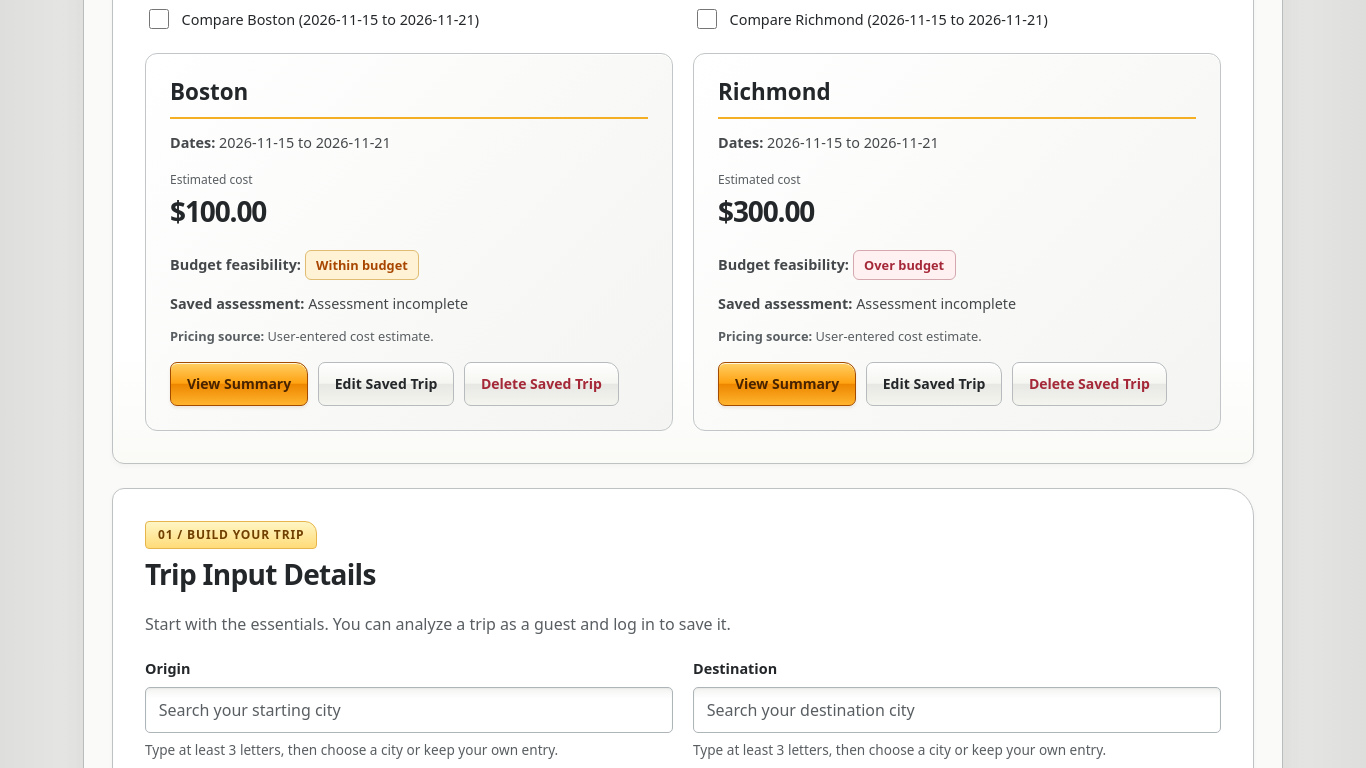
it: multiple saved trips dashboard › confirms deletion of the chosen trip and leaves the other trip intact
The width and height of the screenshot is (1366, 768).
Later steps or results of the test are not shown.
(page scrolled)
Click the button "Delete Saved Trip" below "Over budget" at (1089, 384), box [1012,362,1167,406]
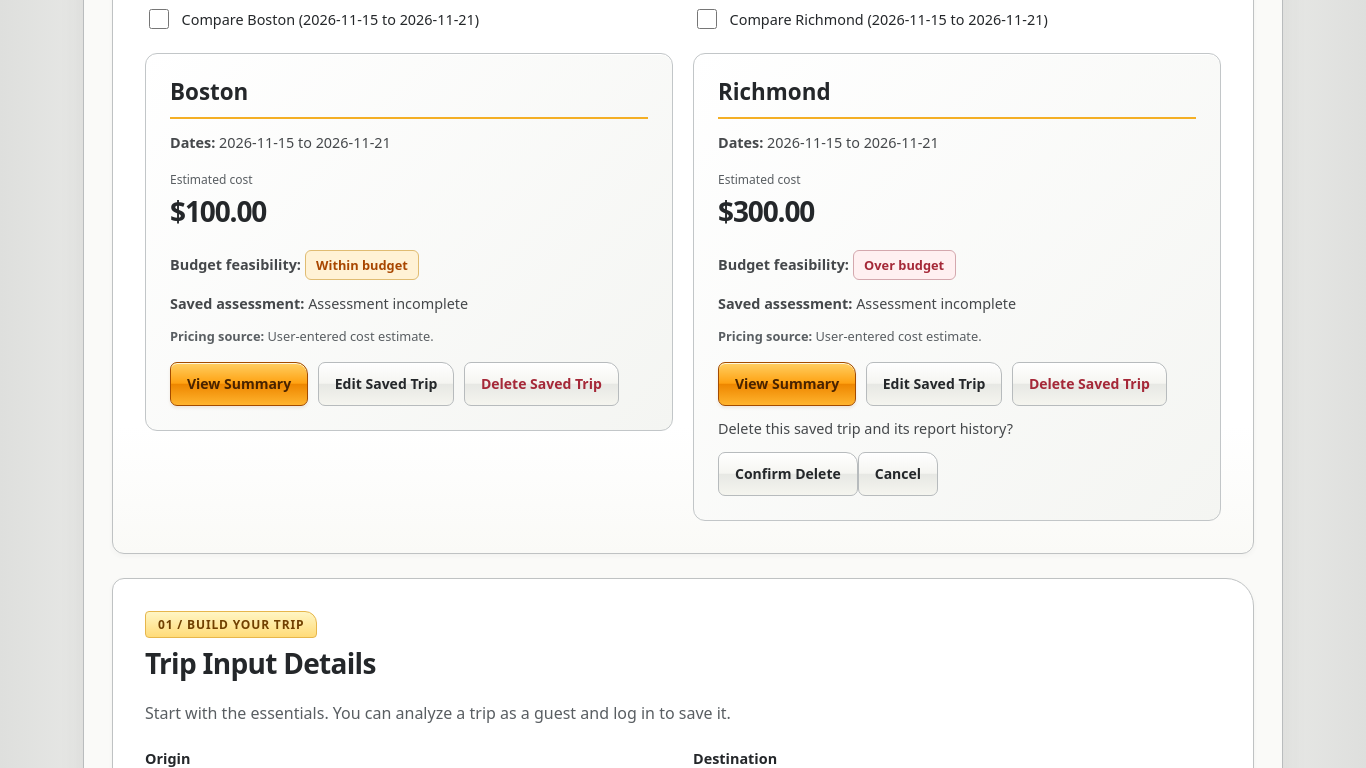
Check: the button "Cancel" is shown
Click the button "Cancel" at (898, 474), box [858,452,938,496]
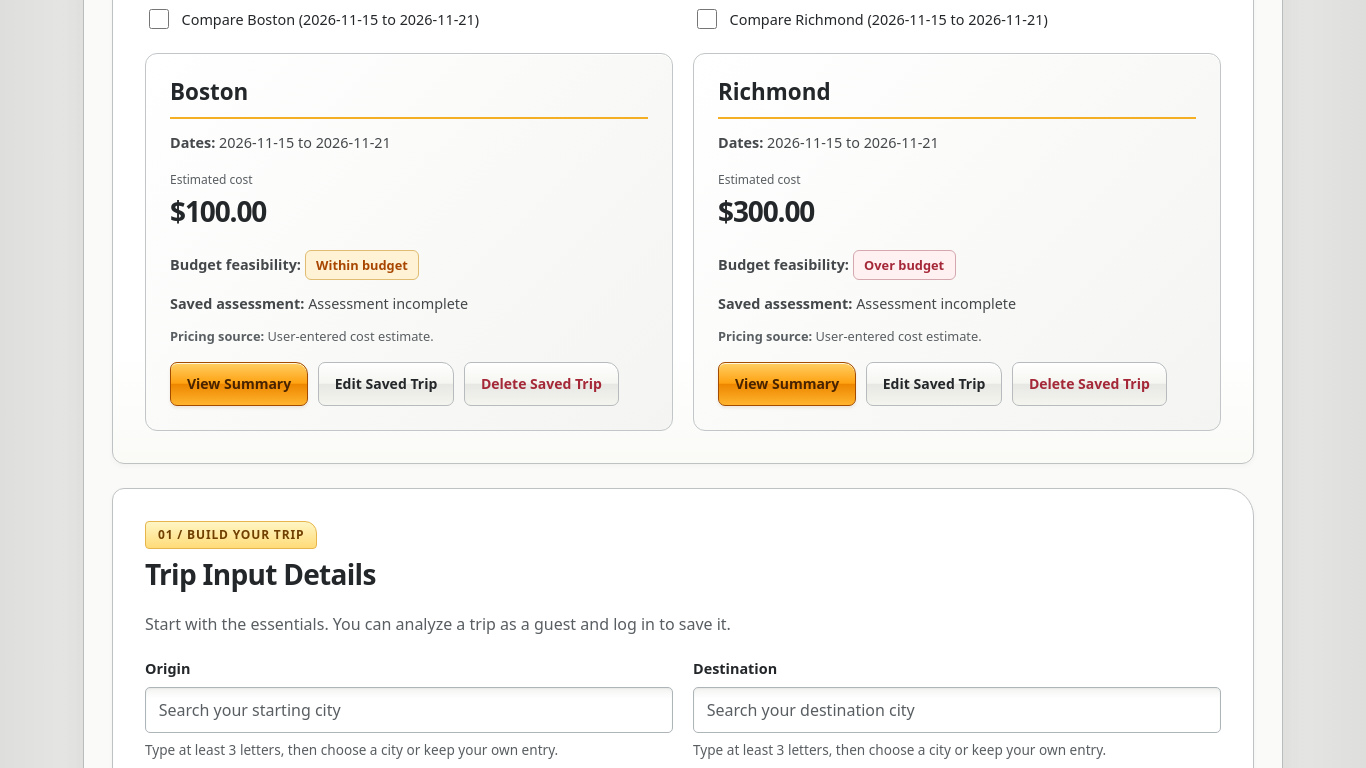
Click the button "Delete Saved Trip" below "Over budget" at (1089, 384), box [1012,362,1167,406]
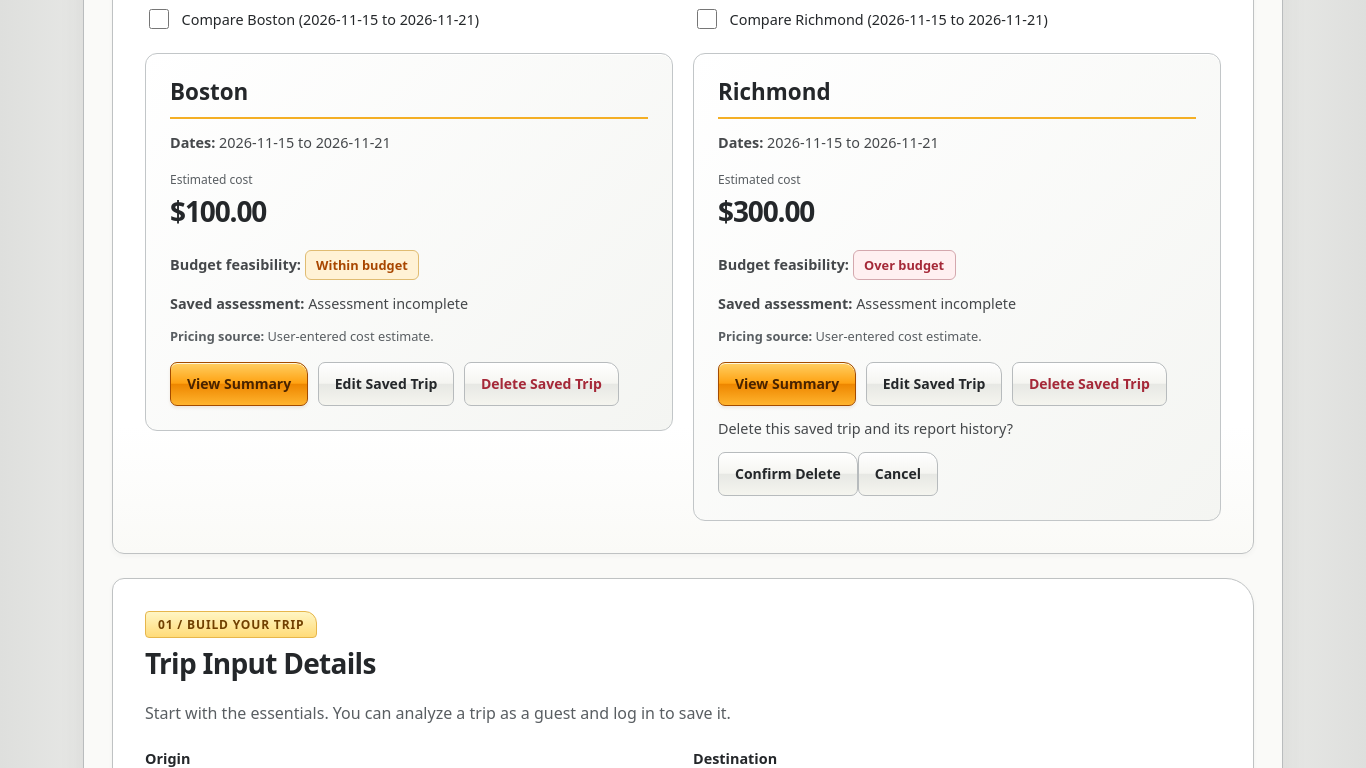
Check: the button "Confirm Delete" is shown, box [718,452,858,496]
